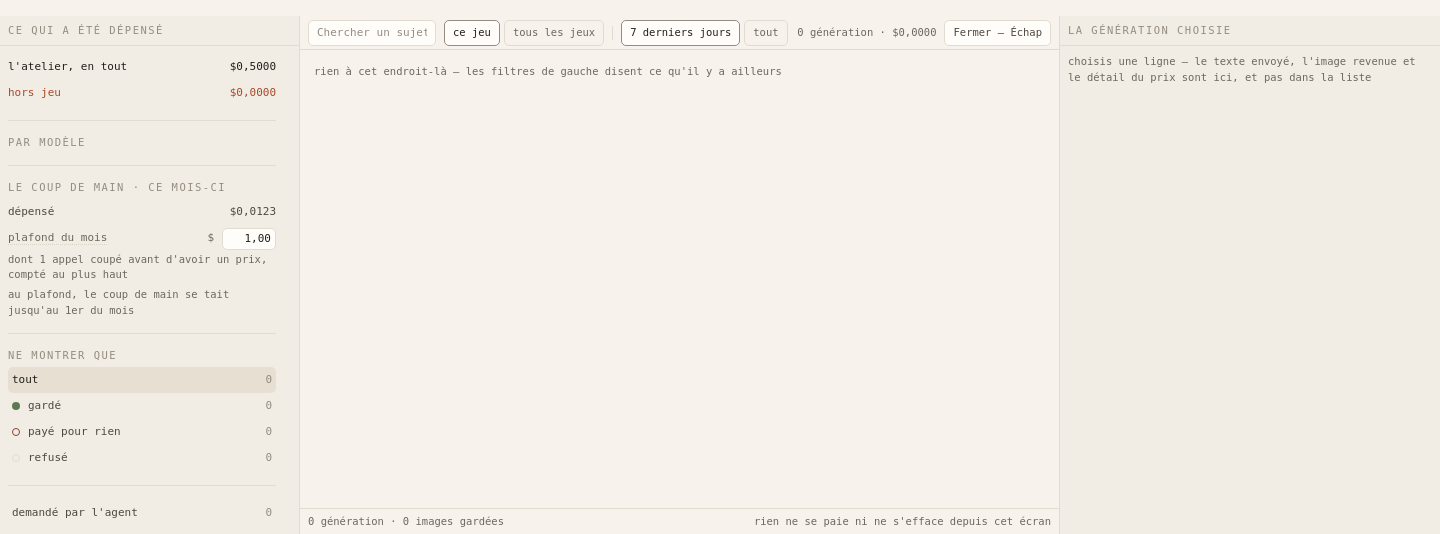
Test: le plafond se pose, et l'écran garde ce que le serveur rend
This screenshot has width=1440, height=534.
(page scrolled)
Expected: the button "Poser" is not shown
Replace the text in the field labelled "plafond du mois" with "2,5": [249, 238] box top-left (222, 228), bottom-right (276, 250)
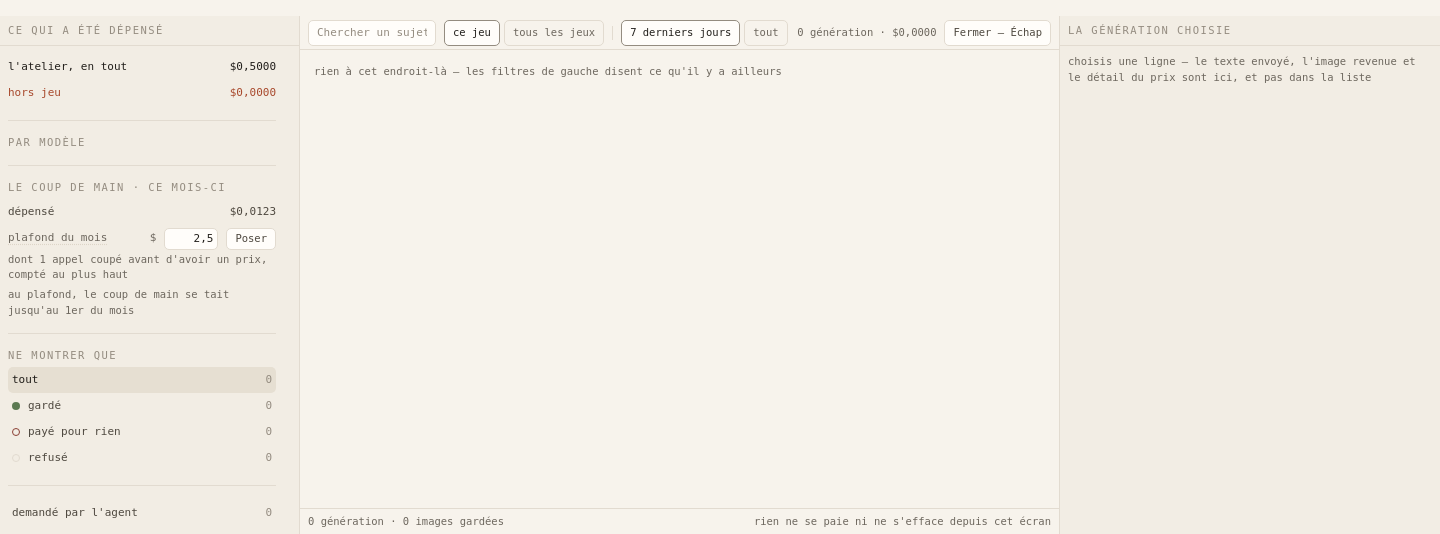
Click the button "Poser": [251, 238] box top-left (226, 228), bottom-right (276, 250)
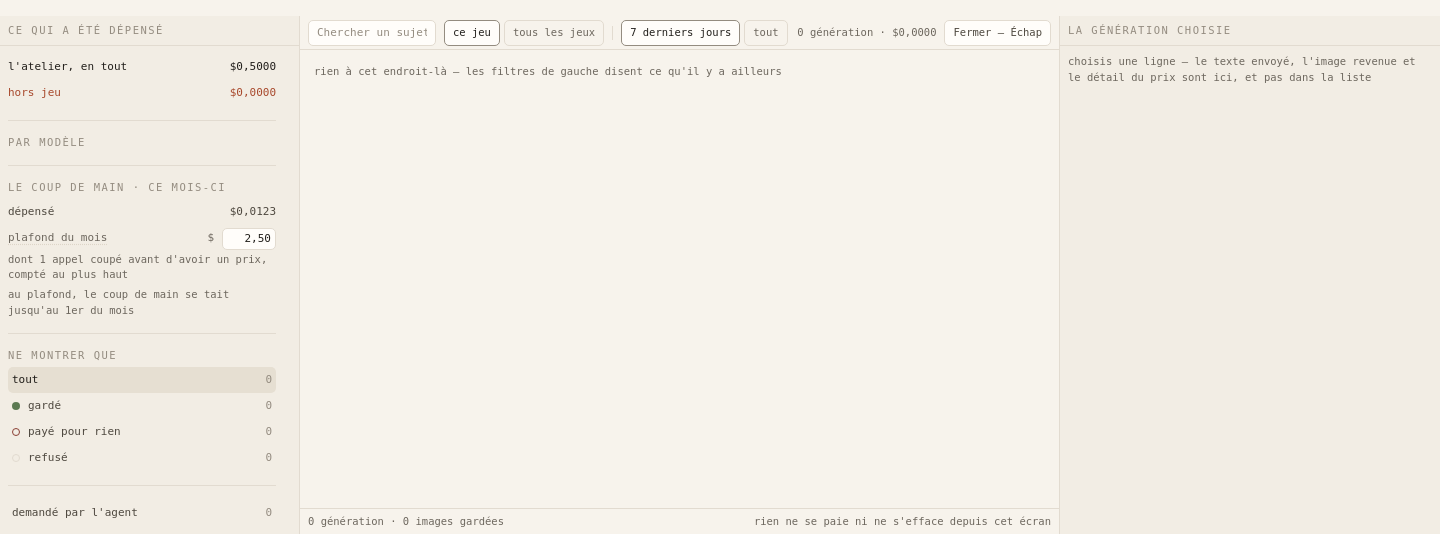
Expected: the field labelled "plafond du mois" holds "2,50", top-left (222, 228), bottom-right (276, 250)
Expected: the button "Poser" is gone
